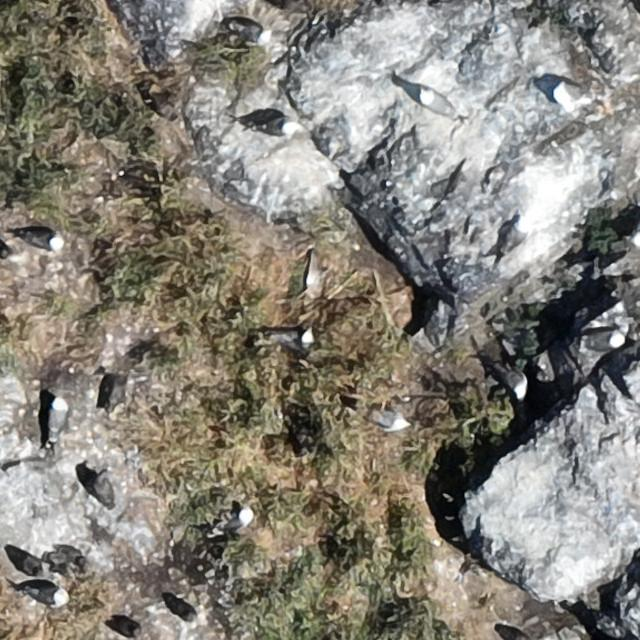umineko: (494, 356, 528, 400), (418, 86, 461, 120), (498, 215, 532, 257), (23, 582, 72, 608), (553, 81, 586, 114), (580, 330, 625, 354), (232, 18, 272, 44), (258, 119, 302, 137), (28, 232, 66, 251), (274, 331, 312, 348), (374, 410, 406, 430), (223, 508, 252, 530), (49, 398, 67, 432)
